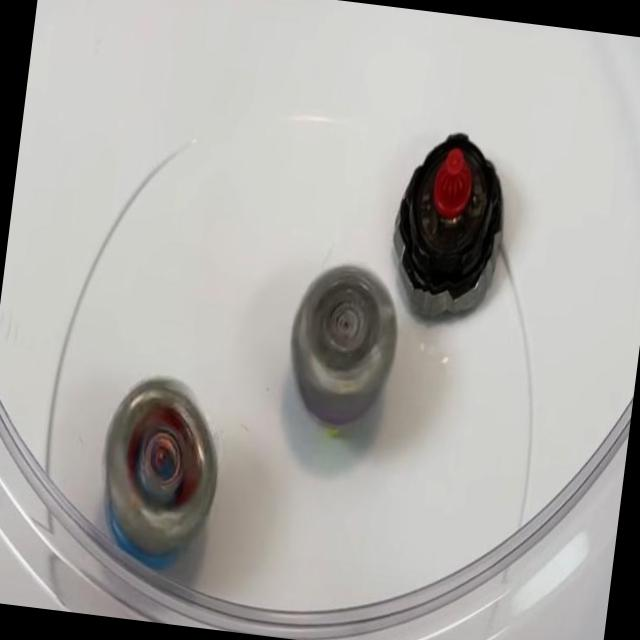Beyblade: (90, 371, 229, 572), (383, 127, 513, 328), (280, 258, 406, 436)
